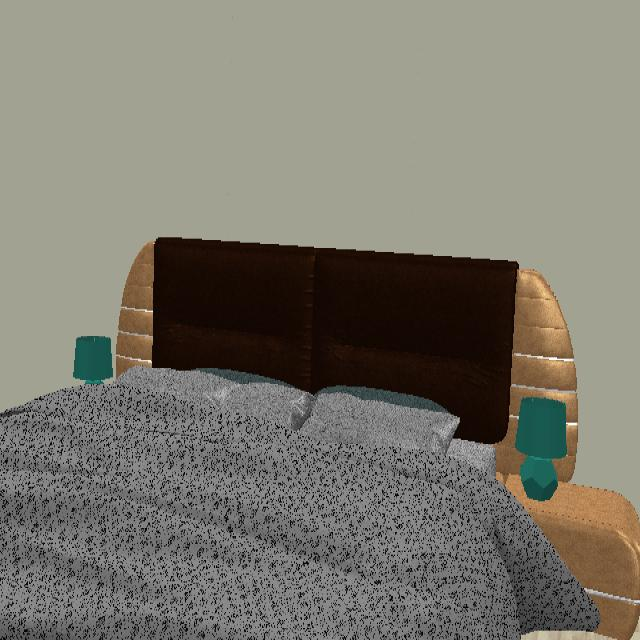bed: (0, 365, 603, 640)
lamp: (509, 387, 577, 503), (70, 336, 115, 383)
nighttable: (505, 477, 640, 640)
pillow: (316, 391, 457, 452)
